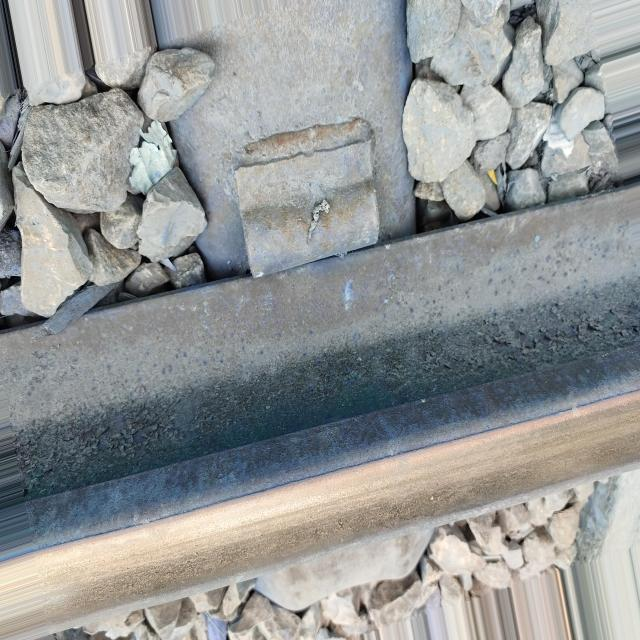Missing Fastener: (203, 118, 414, 357)
